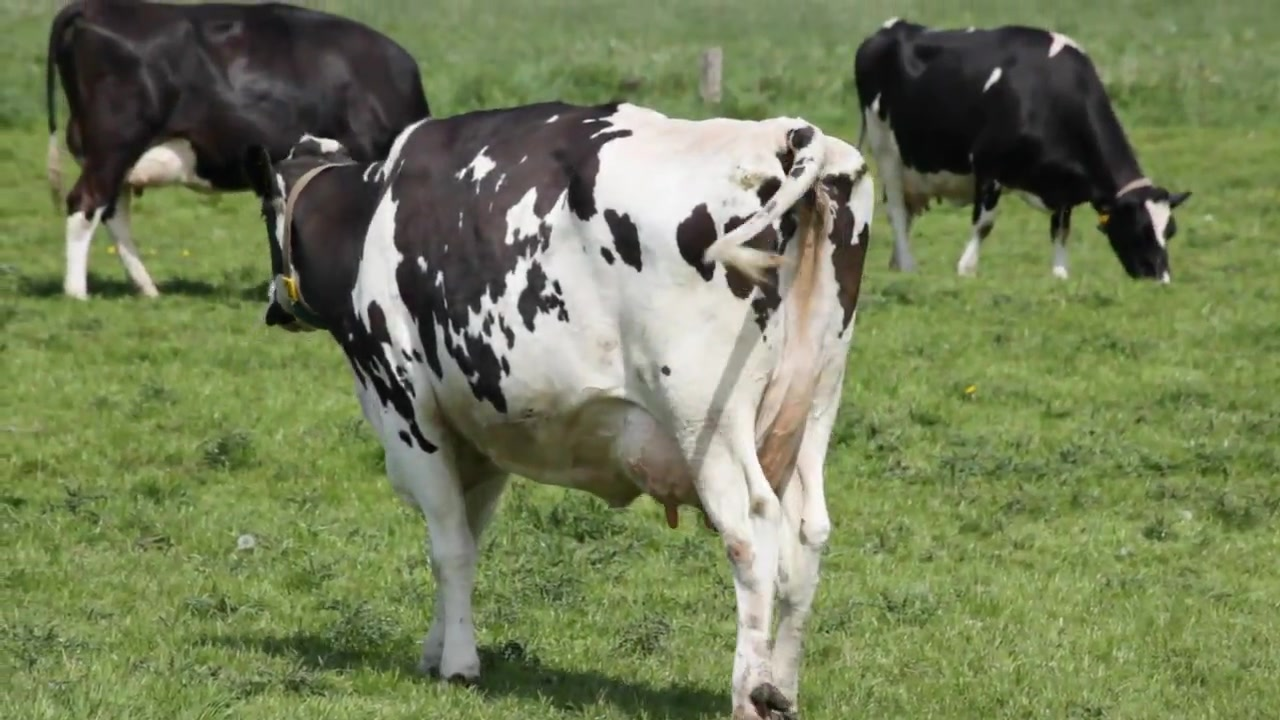cow: (242, 100, 879, 720)
